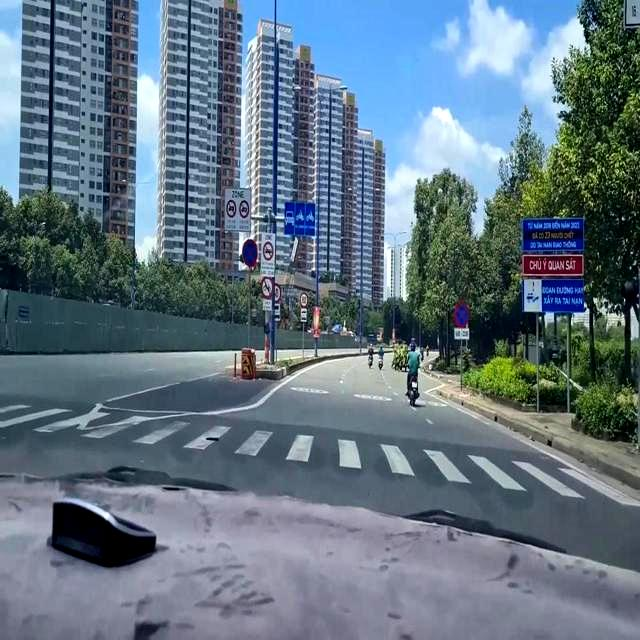Biển phụ: (453, 327, 470, 340), (300, 307, 308, 325), (272, 304, 281, 320), (260, 298, 272, 310)
Cấm các phương tiện hoạt động trong khung giờ cố định: (220, 185, 256, 234), (259, 231, 276, 280)
Cấm dừng - Cấm đỗ: (451, 295, 472, 329), (240, 234, 258, 267)
Cấm xe máy: (258, 275, 275, 301)
Giới hạn tốc độ: 80Km/h: (299, 292, 308, 308)
Khác: (519, 215, 588, 315)
Làn đường cho từng xe: (282, 197, 319, 241)
